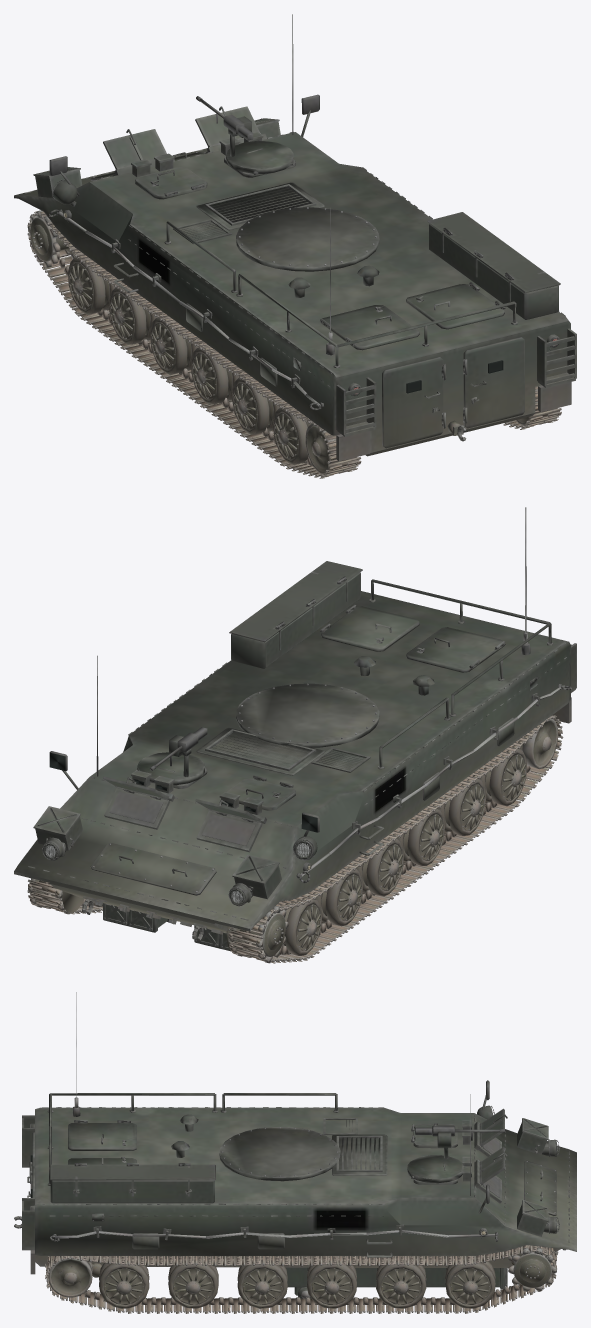
The model's file is strela10_lo.glb.
3 renders of one model, top to bottom at view 1: azimuth 30°, elevation 25°; view 2: azimuth 150°, elevation 25°; view 3: azimuth 270°, elevation 25°, orthographic. The views are drawn at different scales.
Visible parts, largest first — view 1: body|S10_H, body|S10_R; view 2: body|S10_H, body|S10_R, cradle|S10_T, body|glass; view 3: body|S10_H, body|S10_R, cradle|S10_T.
Boxes of the visible parts, bbox=[...] form: body|S10_H: bbox=[14, 14, 576, 461]; body|S10_R: bbox=[27, 210, 561, 478]; body|S10_H: bbox=[14, 507, 576, 941]; body|S10_R: bbox=[27, 715, 563, 963]; cradle|S10_T: bbox=[103, 903, 230, 951]; body|glass: bbox=[49, 752, 317, 832]; body|S10_H: bbox=[14, 992, 576, 1274]; body|S10_R: bbox=[45, 1245, 556, 1313]; cradle|S10_T: bbox=[286, 1267, 507, 1298].
Size of the model in its own units: 3.04 by 3.07 by 6.5.
8 materials, 4 textured.
